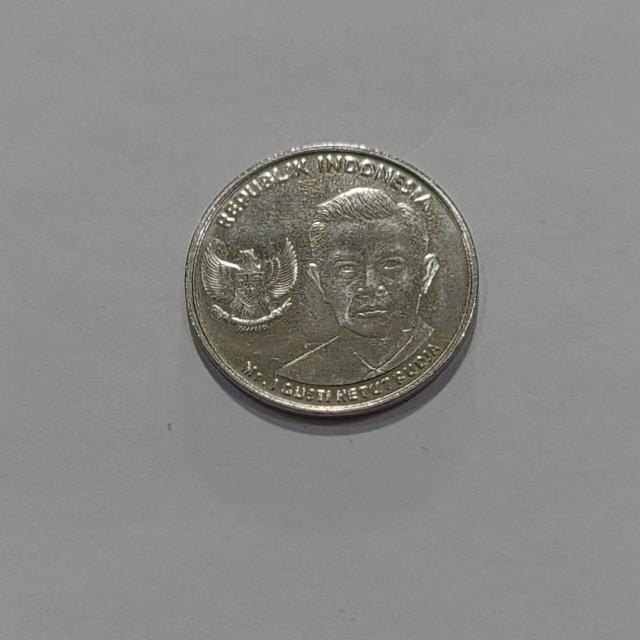Rp100: (183, 140, 480, 419)
